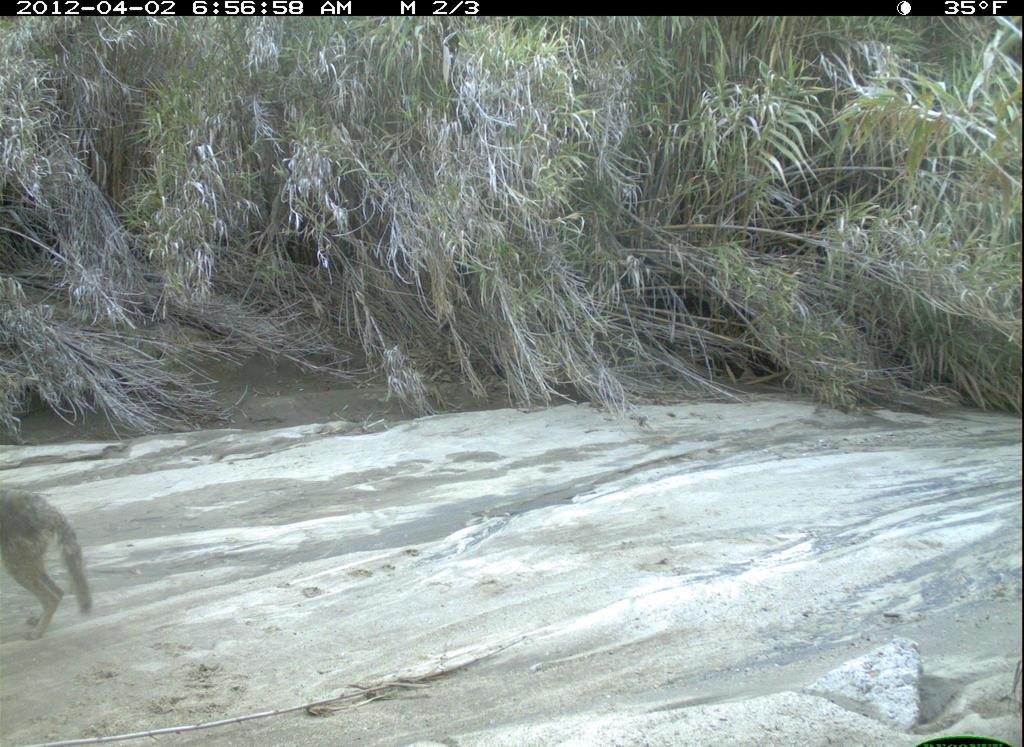coyote: (2, 486, 107, 644)
